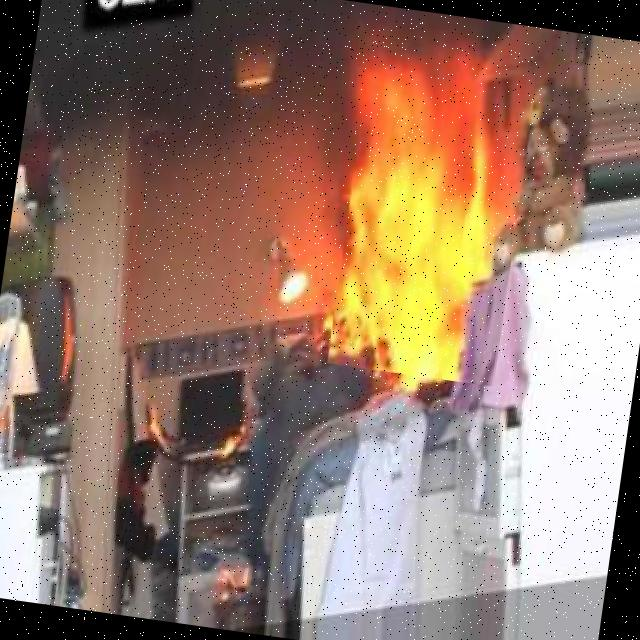fire: (327, 51, 537, 386)
